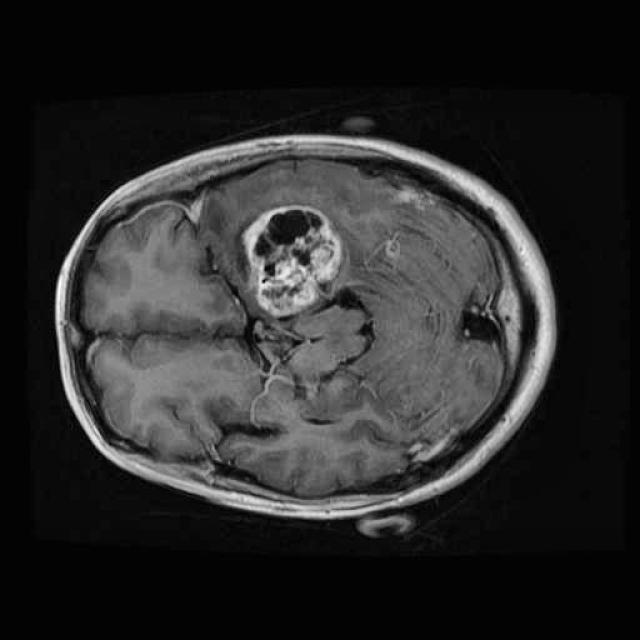Non-Tumor: (230, 196, 355, 326)
